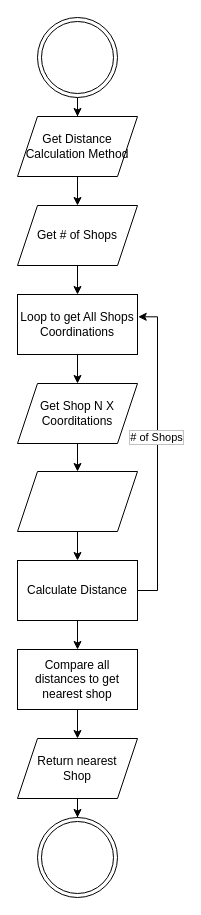
Image size: 201x915. Some labels were removed from this diagram. Each missing label, with the centre of its shape:
"End" belongs at point 77,857.
"Get Shop N Y Coorditations" belongs at point 77,501.
"Start" belongs at point 77,57.
